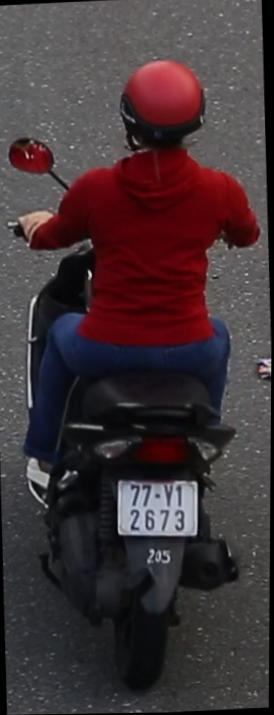LP: (113, 476, 203, 546)
helmet: (114, 51, 212, 166)
